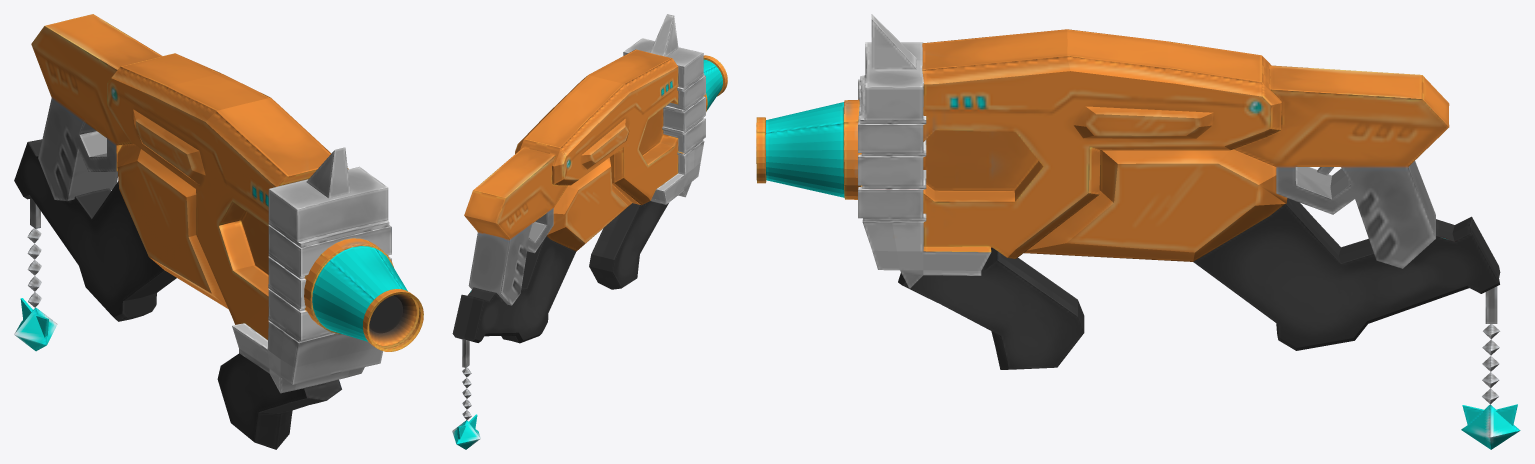
Rendered from KItt.e_rl.fbx.
The picture shows the model from 3 angles, left to right: view 1: azimuth 30°, elevation 25°; view 2: azimuth 150°, elevation 25°; view 3: azimuth 270°, elevation 25°; orthographic projection. The views are drawn at different scales.
Parts seen in each view (by area): view 1: kitt.e_rl; view 2: kitt.e_rl; view 3: kitt.e_rl.
Part boxes in pixels (x1,y1,x2,y2): kitt.e_rl: (14, 14, 423, 449); kitt.e_rl: (452, 14, 727, 449); kitt.e_rl: (756, 14, 1520, 449).
Size of the model in its own units: 6.65 by 27.68 by 44.27.
Materials: 1 (1 with a texture image).
